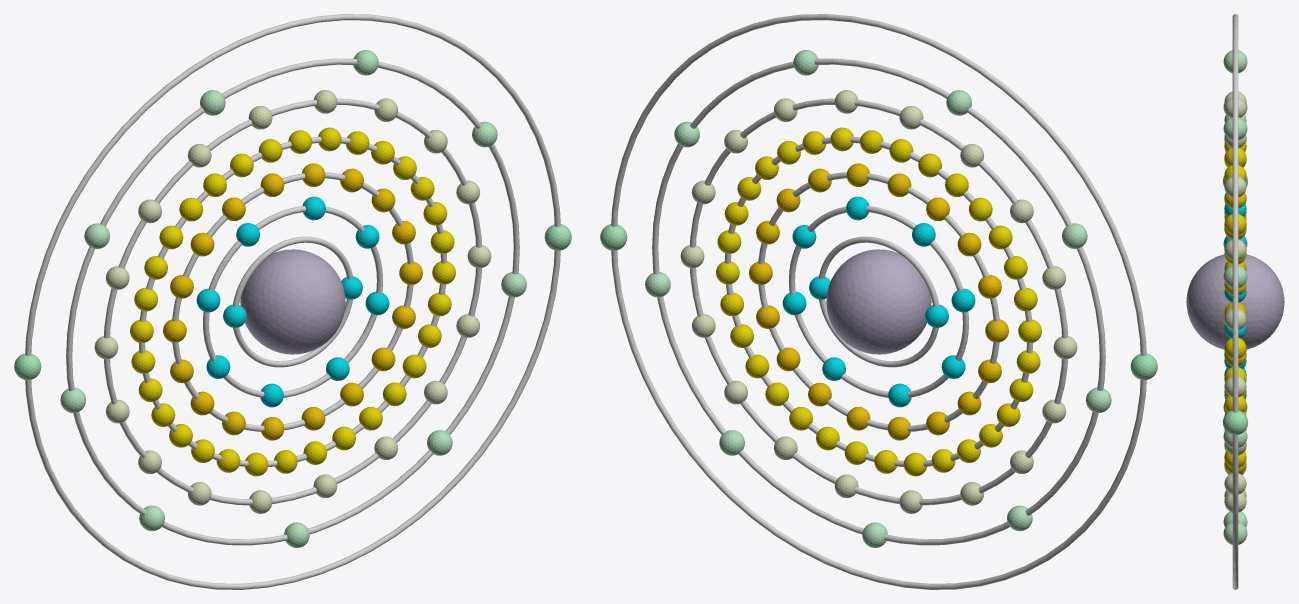
3 renders of one model, left to right at view 1: azimuth 30°, elevation 25°; view 2: azimuth 150°, elevation 25°; view 3: azimuth 270°, elevation 25°, orthographic. The views are drawn at different scales.
Visible parts, largest first — view 1: world; view 2: world; view 3: world.
Boxes of the visible parts, <box> form: world: <box>14,14,571,589</box>; world: <box>600,14,1157,589</box>; world: <box>1186,14,1284,589</box>.
Bounding box in the file's own units: 2.67 × 2.59 × 0.44.
